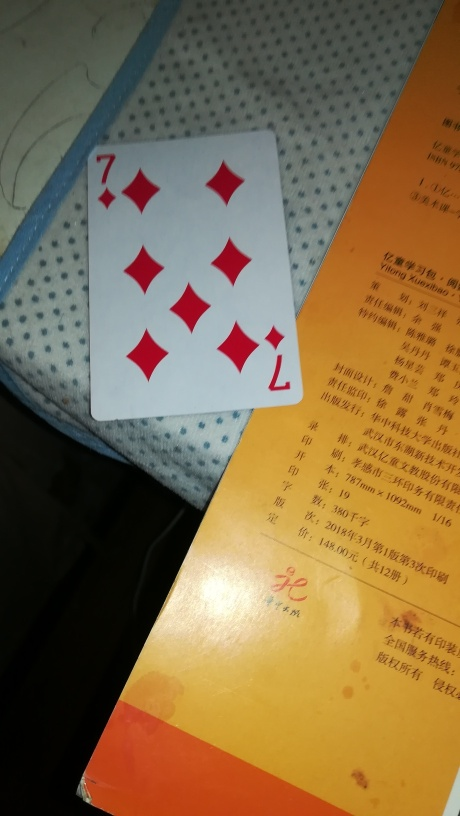fk 7: (84, 129, 307, 419)
